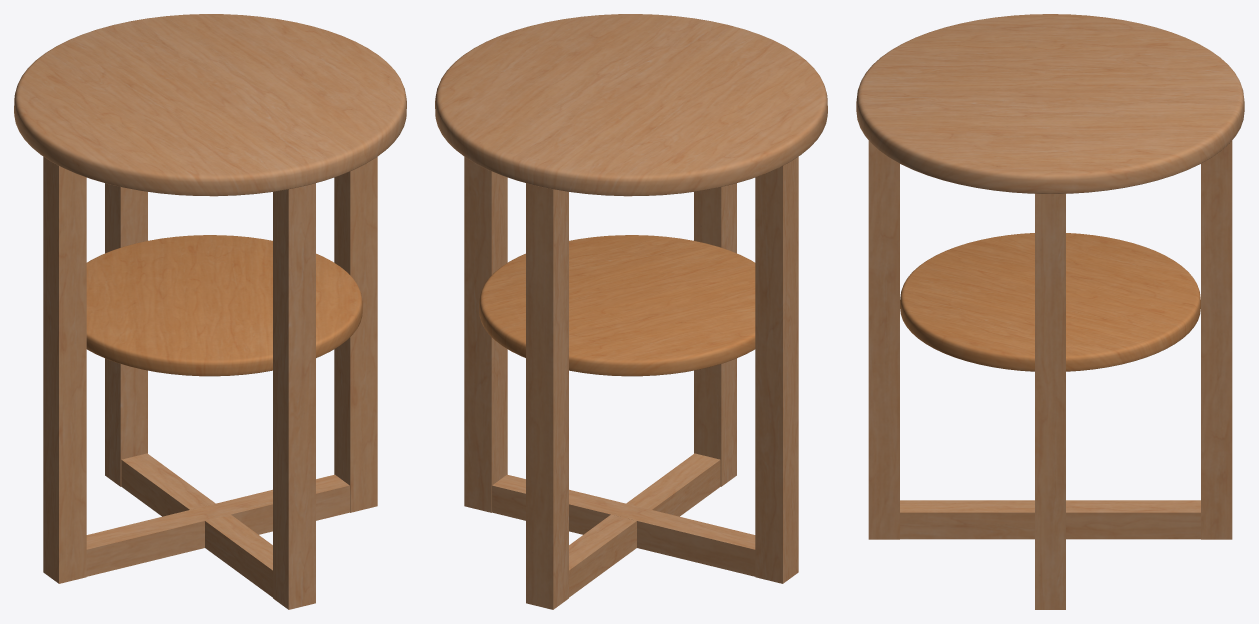
Rendered from side_circle_table.glb.
3 views of the same model, side by side, from view 1: azimuth 30°, elevation 25°; view 2: azimuth 150°, elevation 25°; view 3: azimuth 270°, elevation 25° (orthographic).
Parts seen in each view (by area): view 1: Top_Plate, Middle_Plate, Leg_Element_1, Leg_Element_7, Leg_Element_4, Leg_Element_5, Leg_Element_3, Leg_Element_6, Leg_Element_2; view 2: Top_Plate, Middle_Plate, Leg_Element_1, Leg_Element_3, Leg_Element_4, Leg_Element_5, Leg_Element_7, Leg_Element_2, Leg_Element_6; view 3: Top_Plate, Middle_Plate, Leg_Element_4, Leg_Element_3, Leg_Element_7, Leg_Element_2, Leg_Element_6.
Part boxes in pixels (box(x1,y1,x2,y2)): Top_Plate: box(14, 14, 406, 196); Middle_Plate: box(86, 235, 362, 376); Leg_Element_1: box(43, 156, 86, 583); Leg_Element_7: box(273, 183, 315, 609); Leg_Element_4: box(334, 157, 377, 512); Leg_Element_5: box(86, 474, 349, 576); Leg_Element_3: box(105, 183, 147, 486); Leg_Element_6: box(121, 453, 215, 516); Leg_Element_2: box(205, 514, 272, 597); Top_Plate: box(435, 14, 827, 196); Middle_Plate: box(479, 235, 755, 376); Leg_Element_1: box(755, 156, 798, 583); Leg_Element_3: box(526, 183, 568, 609); Leg_Element_4: box(464, 157, 507, 512); Leg_Element_5: box(492, 474, 755, 576); Leg_Element_7: box(694, 183, 736, 486); Leg_Element_2: box(626, 453, 720, 516); Leg_Element_6: box(569, 514, 636, 597); Top_Plate: box(856, 14, 1244, 193); Middle_Plate: box(900, 233, 1200, 371); Leg_Element_4: box(1035, 194, 1065, 609); Leg_Element_3: box(1201, 140, 1232, 539); Leg_Element_7: box(868, 140, 899, 539); Leg_Element_2: box(900, 500, 1034, 539); Leg_Element_6: box(1066, 500, 1200, 539).
Bounding box in the file's own units: 0.7132 × 0.8904 × 0.7132.
1 material, 1 textured.
